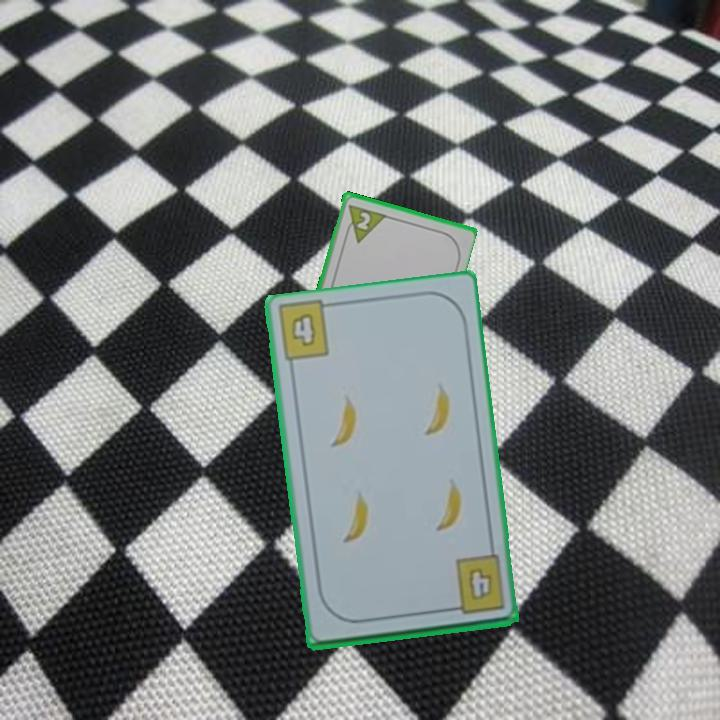2p: (340, 200, 388, 245)
4b: (443, 552, 508, 618), (287, 309, 319, 349)
